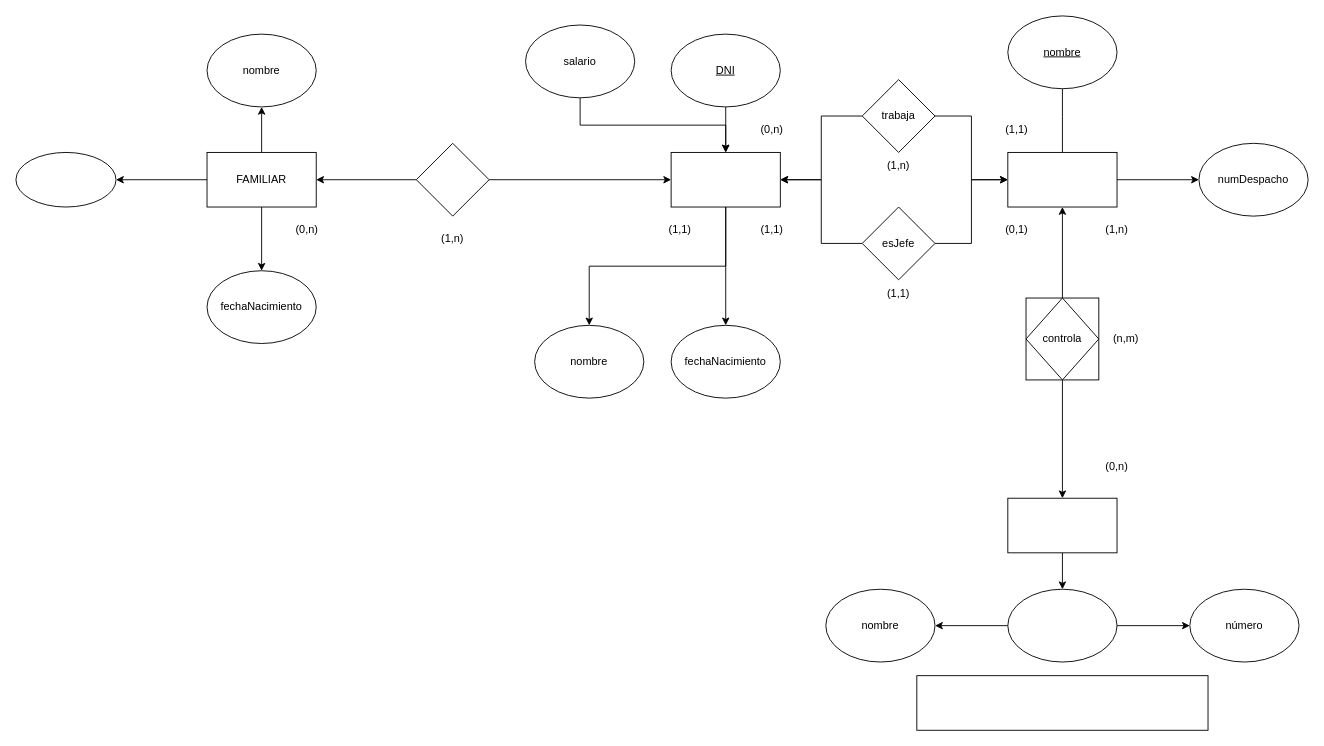
Some shapes in this 1324 by 746 pixel diagram are drawn without their labels. The shapes that lost their labels are listed below. From the top down, each one's centre as x and y in pixels, then its label:
At (65,179): "parentesco".
At (452,179): "tiene".
At (725,179): "EMPLEADO".
At (1062,179): "DEPARTAMENTO".
At (1062,525): "PROYECTO".
At (1062,625): "código".
At (1062,702): "Como los dos son unicos se agrupan en una sola pk".
